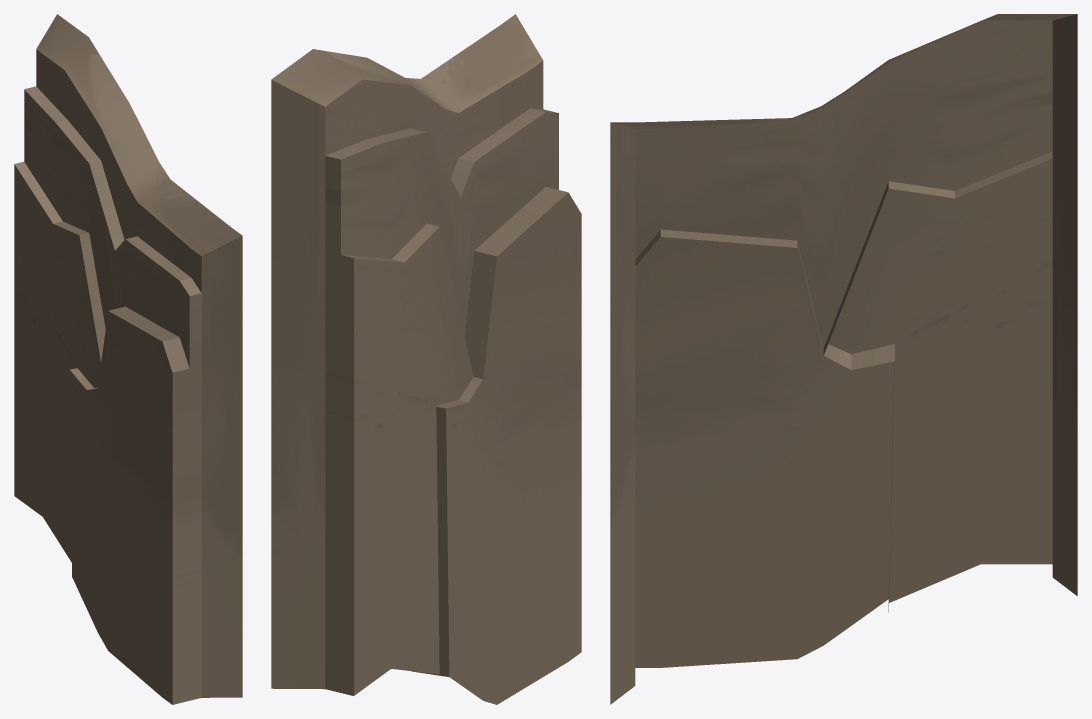
Rendered from slope_wall_left.fbx.
3 renders of one model, left to right at view 1: azimuth 30°, elevation 25°; view 2: azimuth 150°, elevation 25°; view 3: azimuth 270°, elevation 25°, orthographic. The views are drawn at different scales.
Parts seen in each view (by area): view 1: slope_wall_left; view 2: slope_wall_left; view 3: slope_wall_left.
Part boxes in pixels (x1=…): slope_wall_left: x1=14, y1=14, x2=242, y2=704; slope_wall_left: x1=271, y1=14, x2=581, y2=704; slope_wall_left: x1=610, y1=14, x2=1077, y2=704.
Bounding box in the file's own units: 1.94 × 16.9 × 10.36.
1 material, 1 textured.
